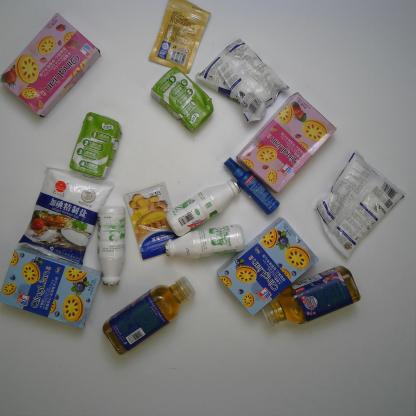Dessert: (1, 12, 101, 119), (236, 92, 338, 194), (217, 216, 319, 316), (1, 250, 103, 328)
Drink: (102, 277, 196, 354), (262, 265, 361, 327)
Milk: (150, 64, 214, 134), (165, 178, 241, 236), (68, 112, 122, 180), (164, 223, 246, 261), (95, 205, 126, 288)
Personal Hygiene: (222, 154, 280, 214)
Seasoner: (313, 151, 407, 259), (17, 165, 113, 268), (195, 38, 290, 125), (120, 181, 183, 260), (148, 2, 212, 76)
